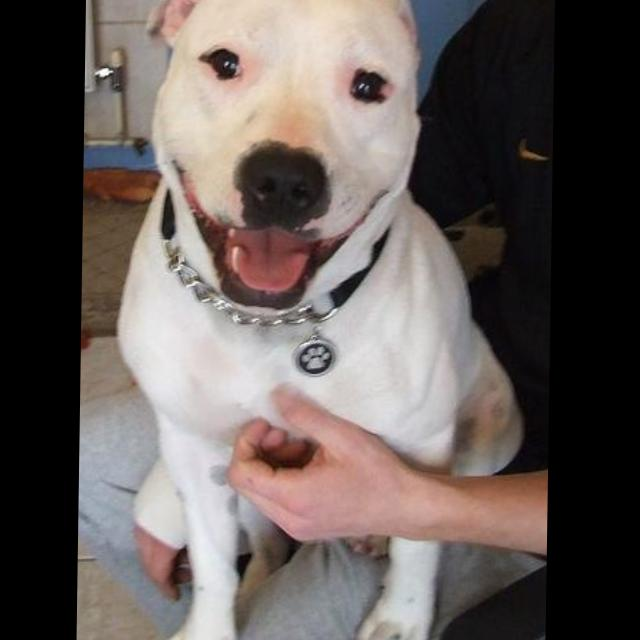staffford: (113, 1, 532, 640)
